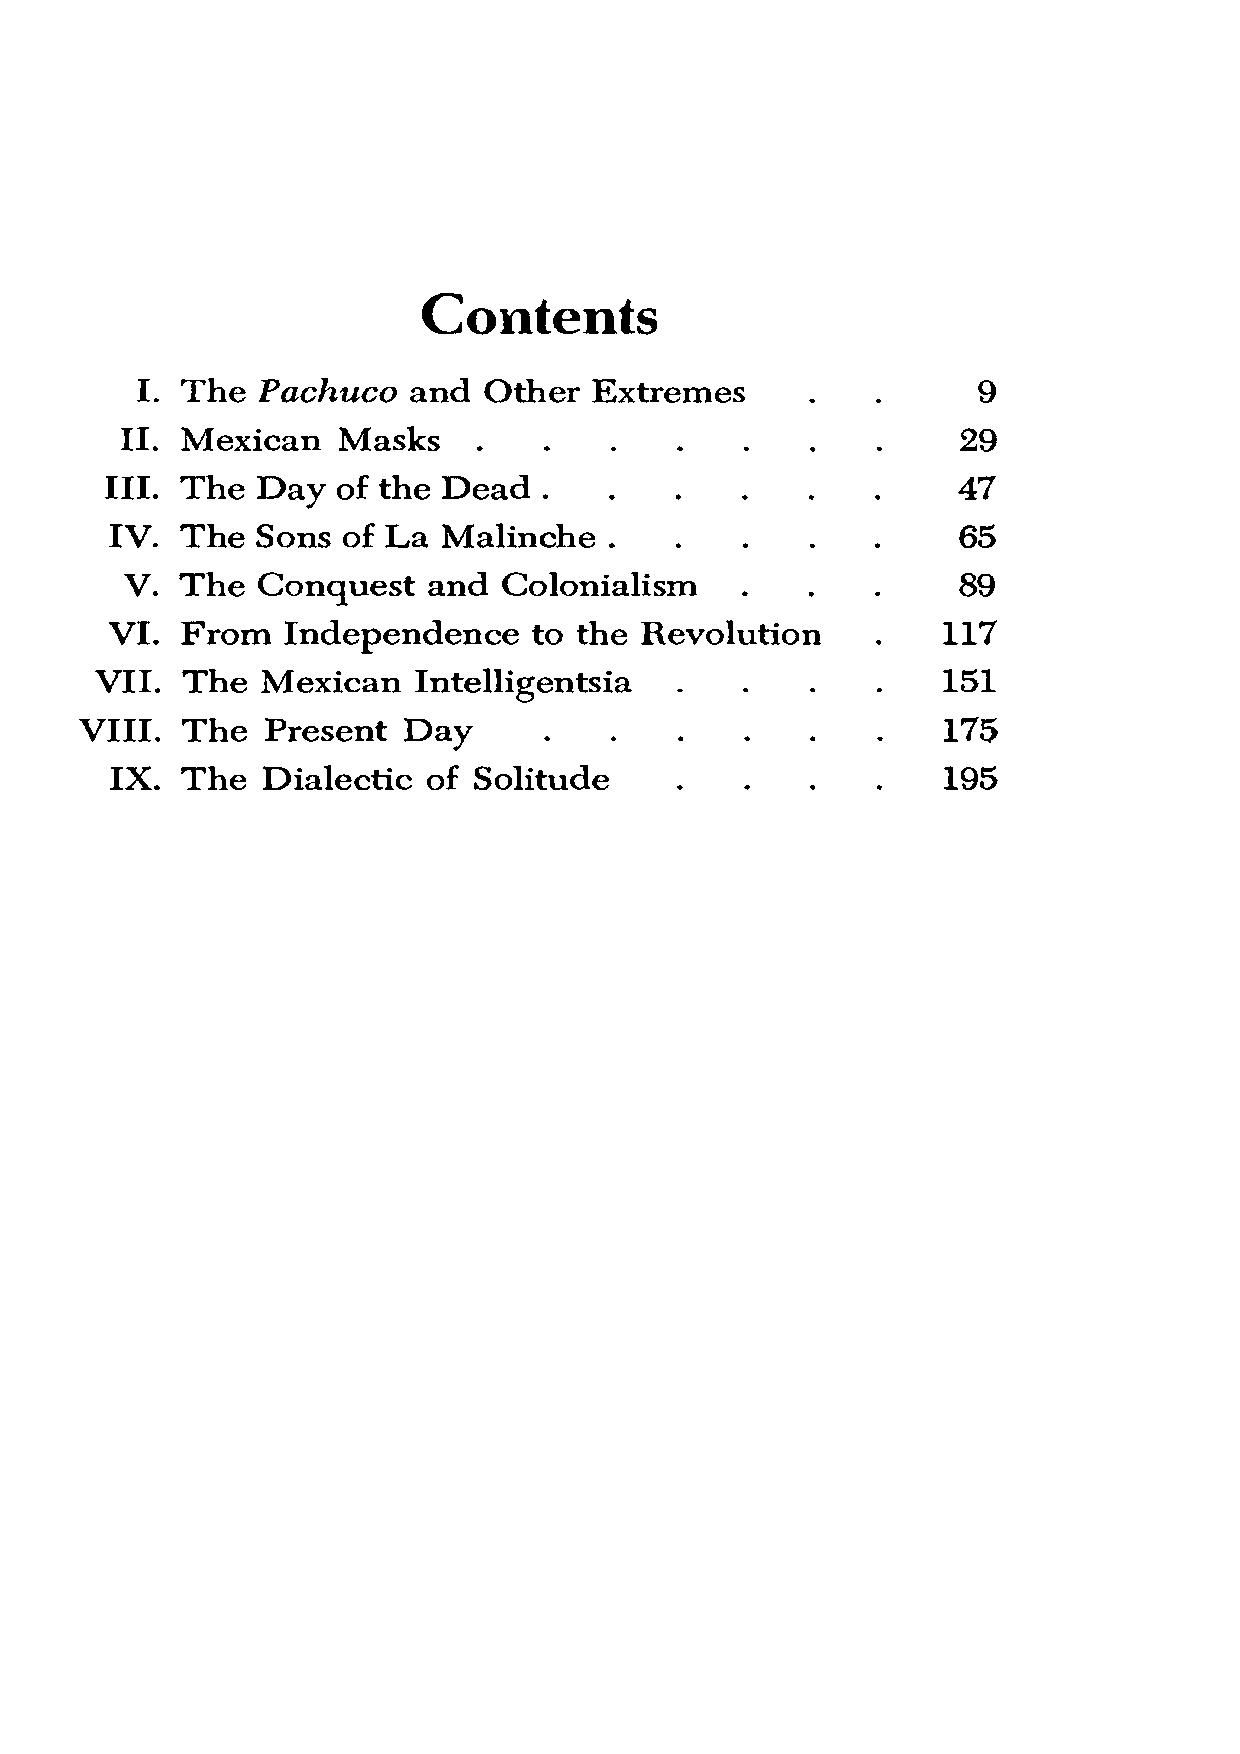TOC_chapter: (106, 615, 829, 651), (127, 373, 745, 408), (94, 664, 635, 703), (118, 568, 705, 603), (105, 760, 616, 794), (102, 468, 531, 509), (105, 517, 599, 552), (75, 714, 474, 752), (115, 421, 443, 455)
TOC_pagenumber: (938, 756, 1002, 790), (935, 615, 998, 648), (939, 710, 1002, 743), (951, 466, 1002, 501), (939, 666, 998, 694), (951, 569, 1000, 601), (955, 515, 1002, 548), (960, 420, 1001, 456), (972, 378, 1002, 407)
chapter: (416, 287, 662, 340)
